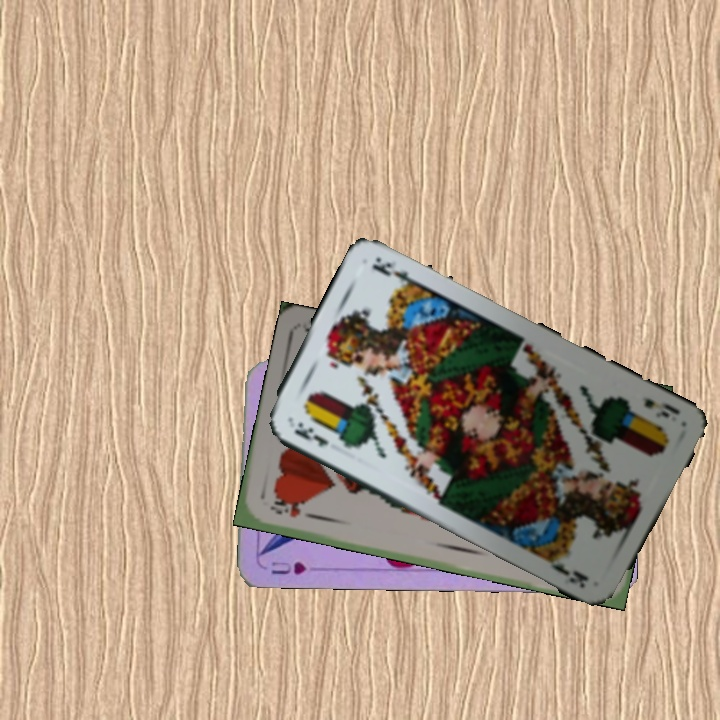EK: (290, 417, 332, 450), (637, 392, 683, 421)
HO: (266, 497, 321, 522)
HU: (267, 557, 310, 577)
